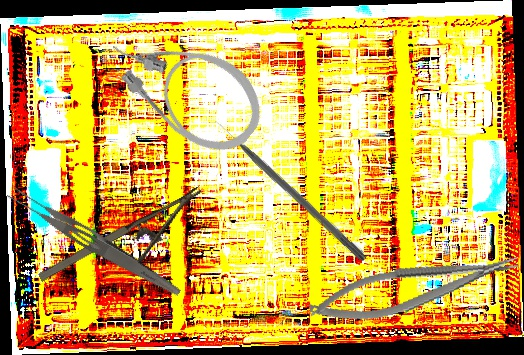Cannula: (94, 0, 279, 170)
Dressing Forceps: (3, 181, 187, 301)
Needle Holder: (35, 186, 219, 309), (305, 246, 524, 331)
Pusher: (212, 115, 370, 264)
